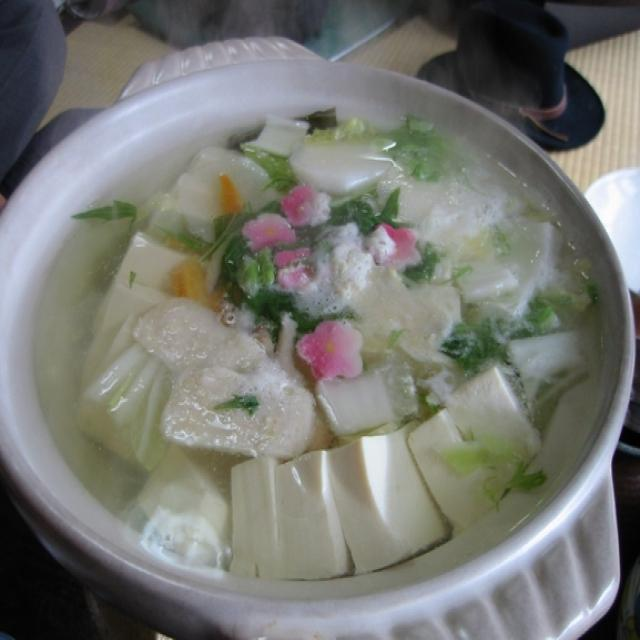豆腐料理: (8, 50, 626, 625)
